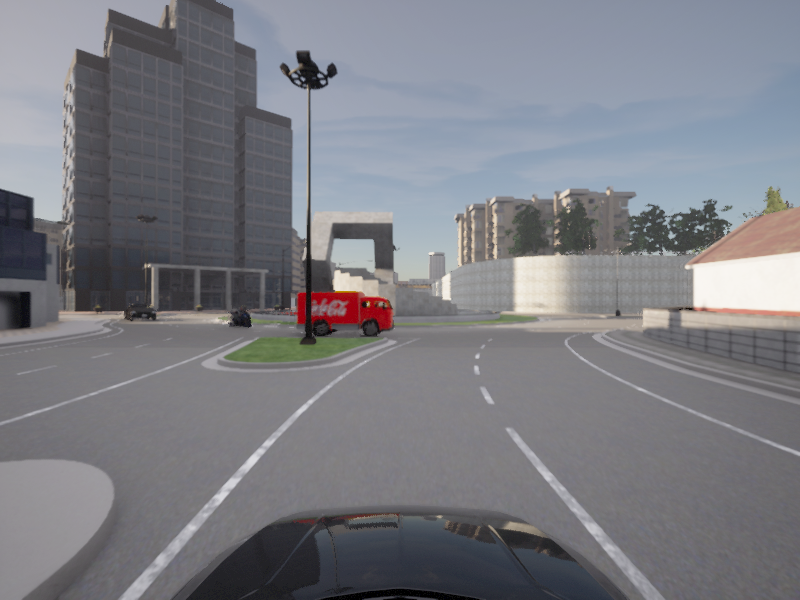vehicle: (294, 291, 394, 337), (224, 306, 256, 329), (123, 303, 158, 321)
